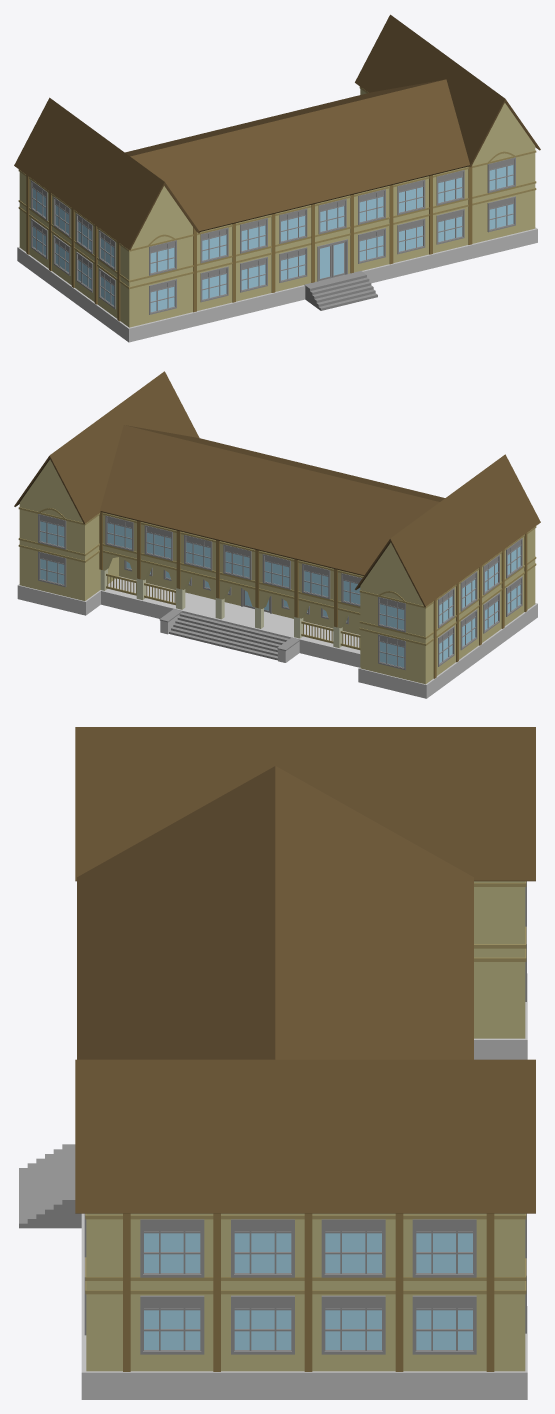
Rendered from school-transformed.glb.
The picture shows the model from 3 angles, top to bottom: view 1: azimuth 30°, elevation 25°; view 2: azimuth 150°, elevation 25°; view 3: azimuth 270°, elevation 25°; orthographic projection. The views are drawn at different scales.
Visible parts, largest first — view 1: school; view 2: school; view 3: school.
Part boxes in pixels (x1,y1,x2,y2): school: [14, 14, 540, 342]; school: [14, 371, 540, 698]; school: [19, 727, 535, 1399].
Size of the model in its own units: 31.43 by 11.2 by 17.09.
1 material, 1 textured.
